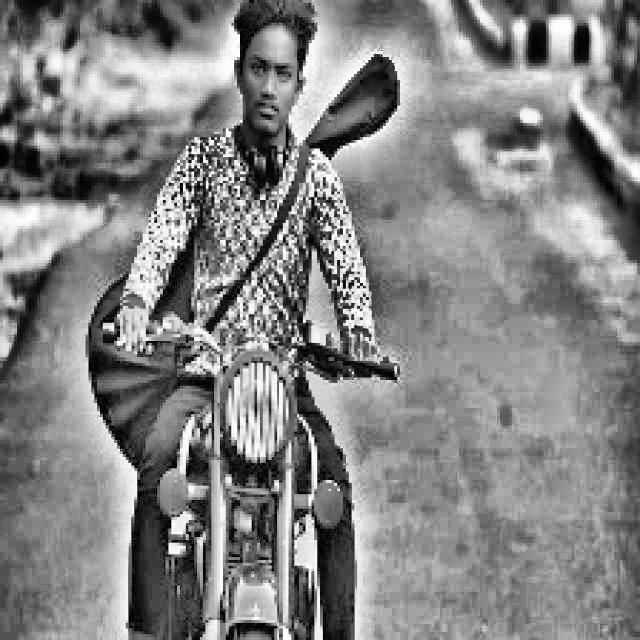motorcycle: (92, 303, 418, 640)
